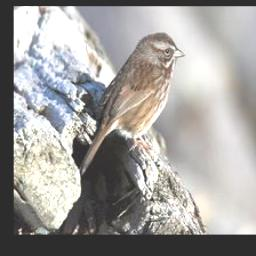Sparrow: (80, 31, 186, 177)
